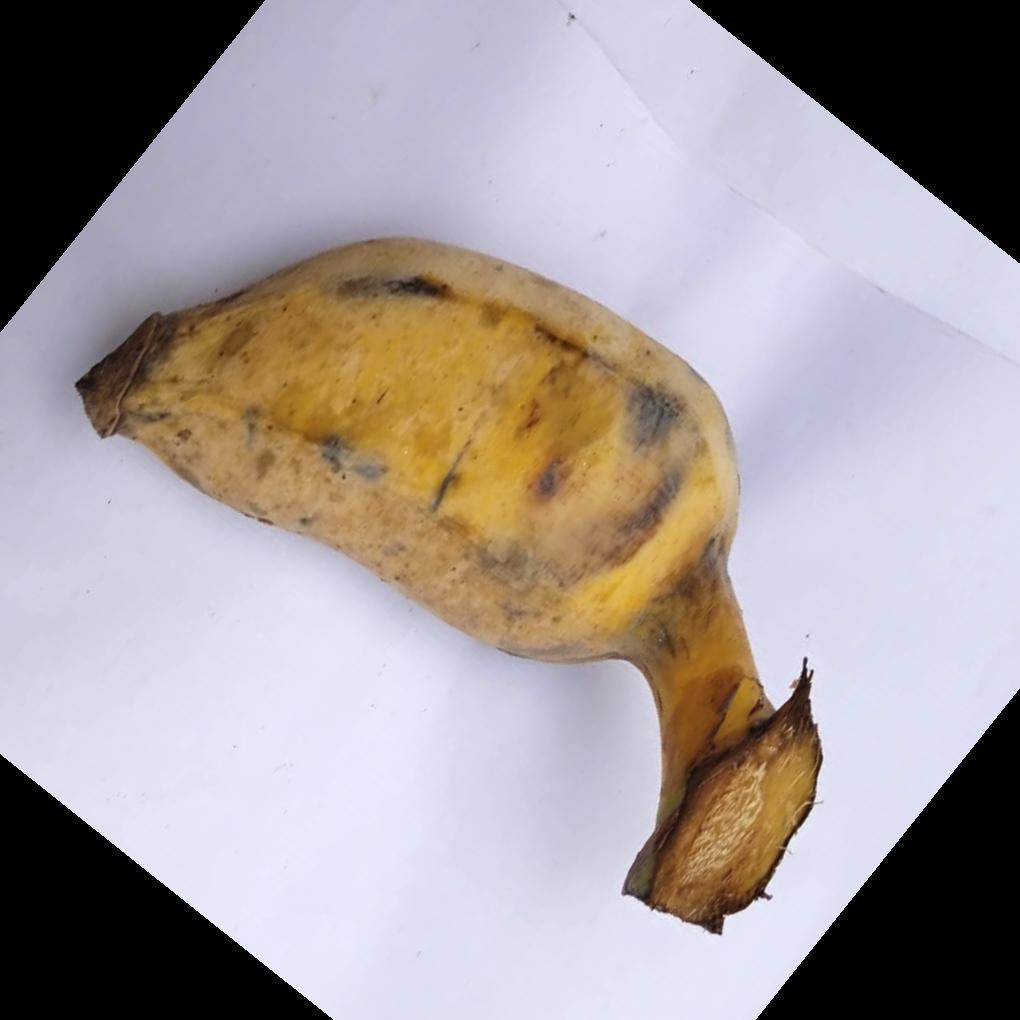Banana Ripe: (86, 221, 840, 954)
